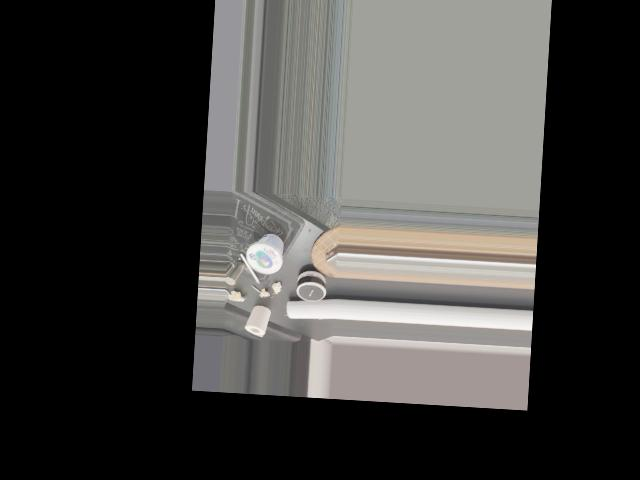cotage: (245, 230, 282, 272)
